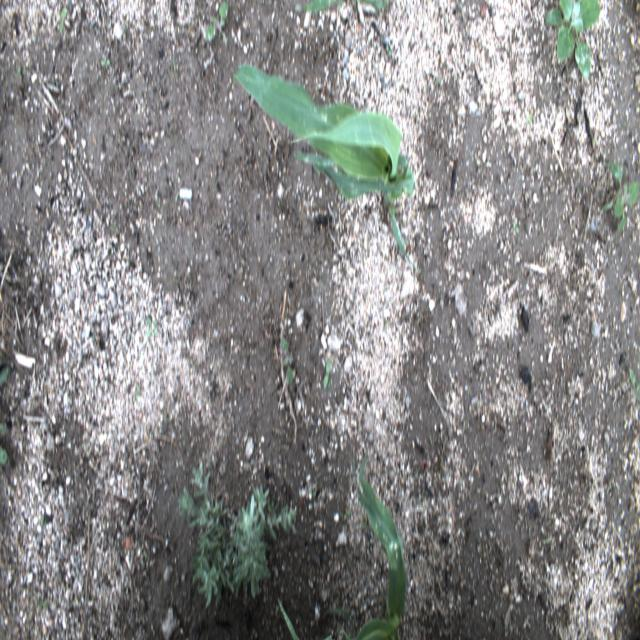crop: (232, 64, 420, 274), (277, 445, 406, 639)
weed: (178, 459, 297, 616), (543, 0, 604, 85), (600, 163, 638, 235), (205, 0, 229, 41), (279, 333, 294, 382), (322, 358, 329, 392)
